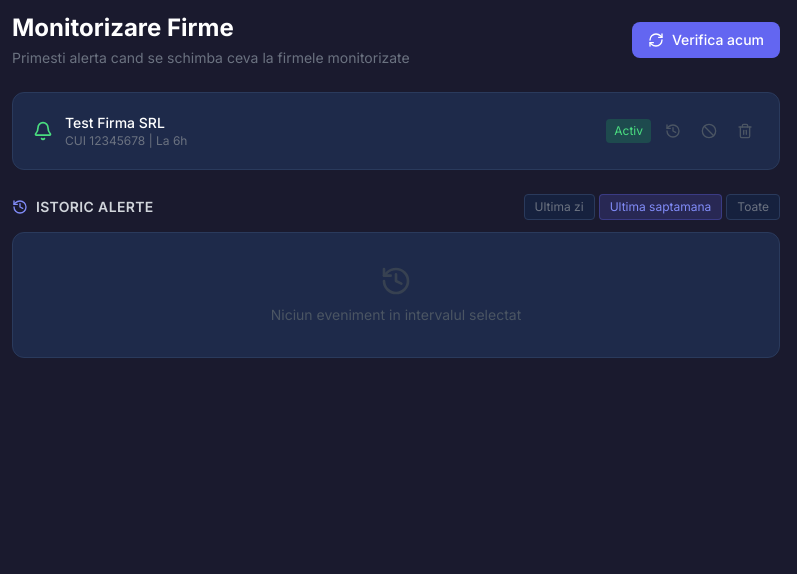
Monitoring page — suprimare alerta › click pe butonul de suprimare deschide formularul cu motiv + data
This screenshot has width=797, height=574.
Expected: the text "Test Firma SRL" is shown, [65,114,165,131]
Click the button titled "Suprima alerta" at (709, 131), box [695,117,723,145]
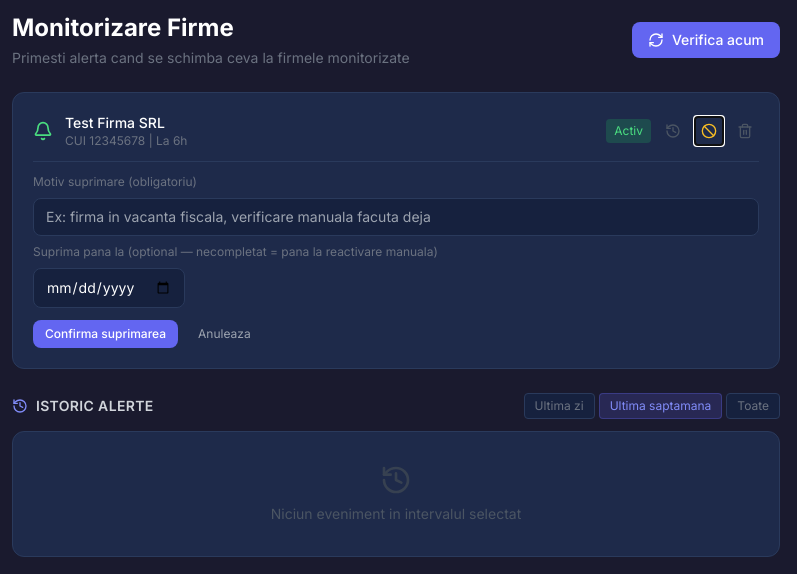
Result: the field labelled "Motiv suprimare (obligatoriu)" is shown at [33,198,759,236]
Result: the button "Confirma suprimarea" is shown at [33,320,178,348]
